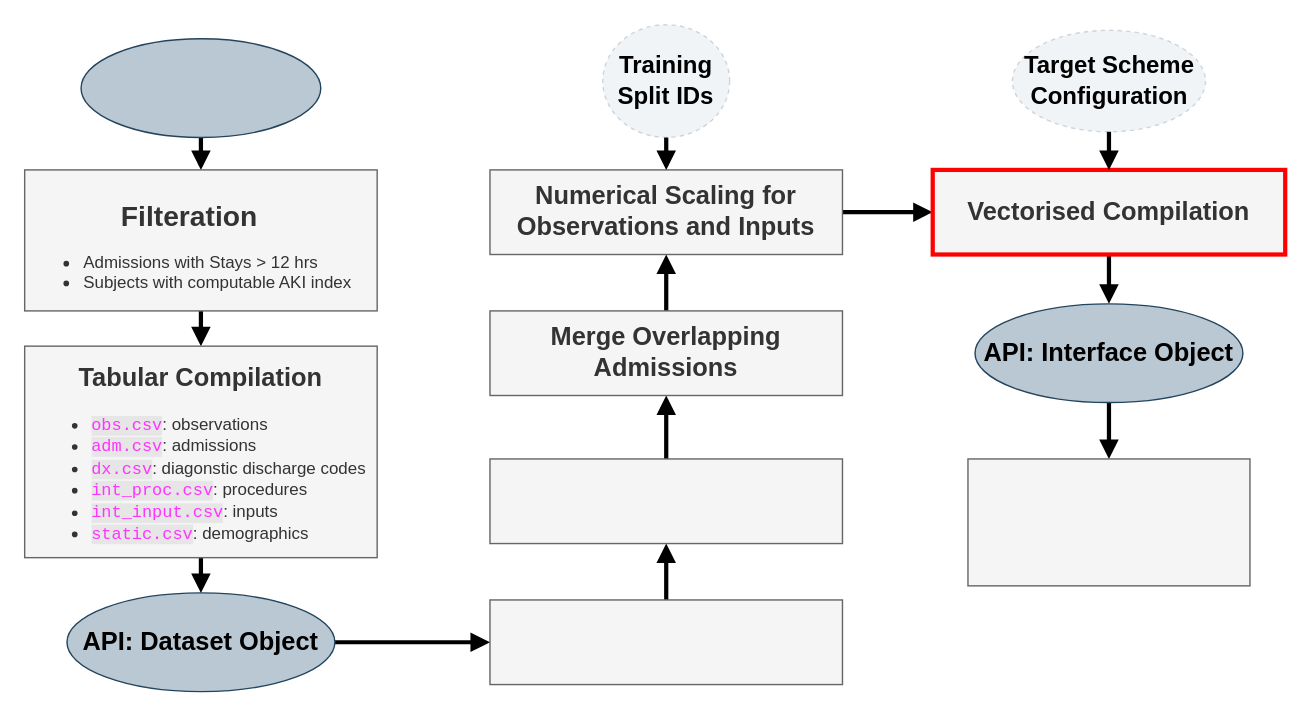
Some shapes in this 1311 by 716 pixel diagram are drawn without their labels. The shapes that lost their labels are listed below. From the top down, each one's centre as x and y in pixels, then its label:
[200,87]: Raw EHR Databse
[665,501]: Map ICD-10 Codes Subset to ICD-9
[1108,522]: MLOps Compatible Caching to Disk On-demand Batch Loading to Device
[665,642]: Validate Discharge Codes
